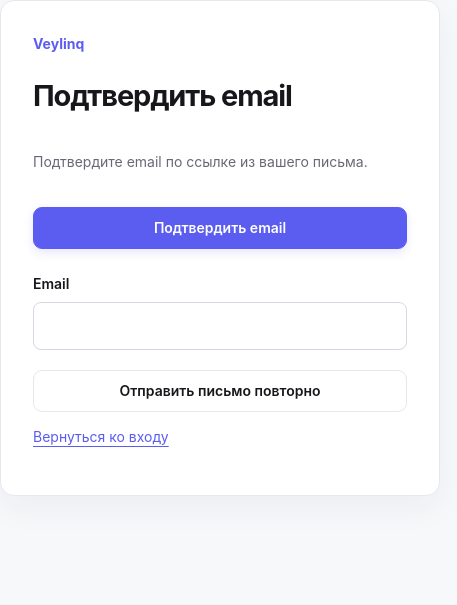
it: shows safe EMAIL_TOKEN_EXPIRED state and resend
Click the button "Подтвердить email": (220, 228) x1=33 y1=207 x2=407 y2=249
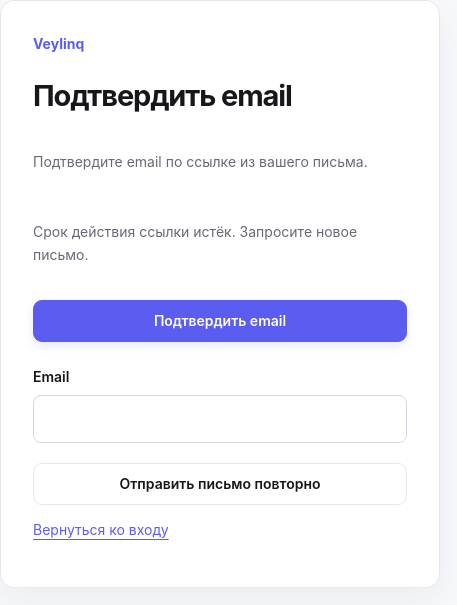
Expected: the button "Отправить письмо повторно" is shown, x1=33 y1=463 x2=407 y2=505
Now the message "Срок действия ссылки истёк. Запросите новое письмо." is shown, box x1=33 y1=221 x2=407 y2=266
